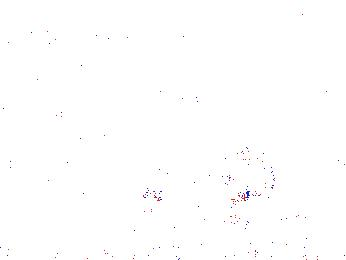flame jellyfish: (271, 173, 346, 226), (223, 144, 277, 204), (134, 141, 179, 202)
